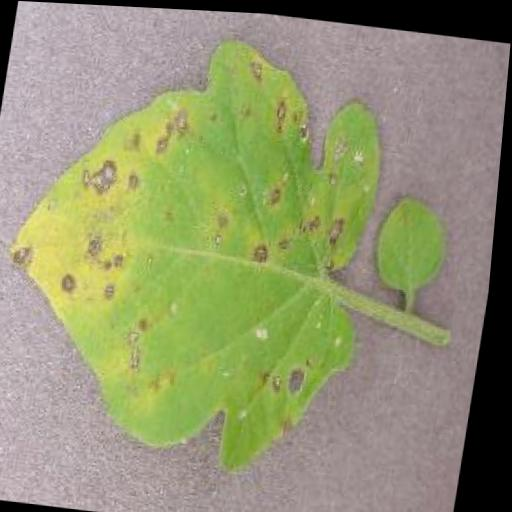Septoria: (0, 14, 400, 478)
